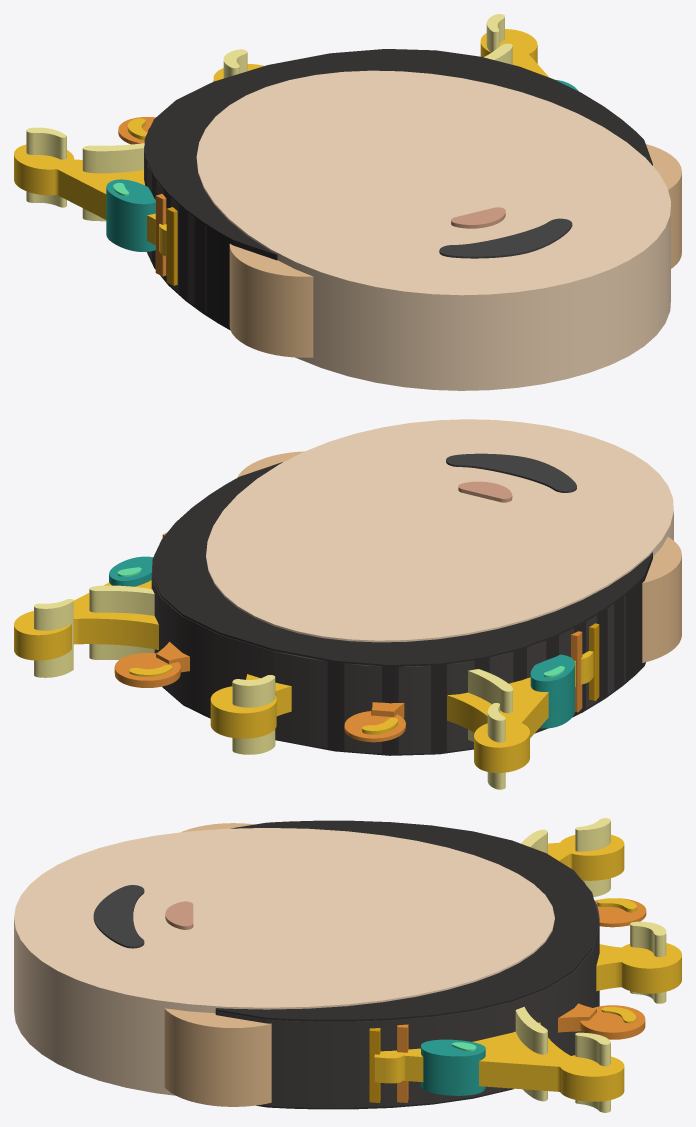
The model's file is emoji_u1f934_1f3fb.glb.
3 renders of one model, top to bottom at view 1: azimuth 30°, elevation 25°; view 2: azimuth 150°, elevation 25°; view 3: azimuth 270°, elevation 25°, orthographic. The views are drawn at different scales.
Parts seen in each view (by area): view 1: emoji_u1f934_1f3fb; view 2: emoji_u1f934_1f3fb; view 3: emoji_u1f934_1f3fb.
Boxes of the visible parts, x1=… form: emoji_u1f934_1f3fb: x1=14, y1=14, x2=681, y2=390; emoji_u1f934_1f3fb: x1=14, y1=419, x2=681, y2=789; emoji_u1f934_1f3fb: x1=14, y1=818, x2=681, y2=1112.
Bounding box in the file's own units: 0.0292 × 0.0056 × 0.0338.
